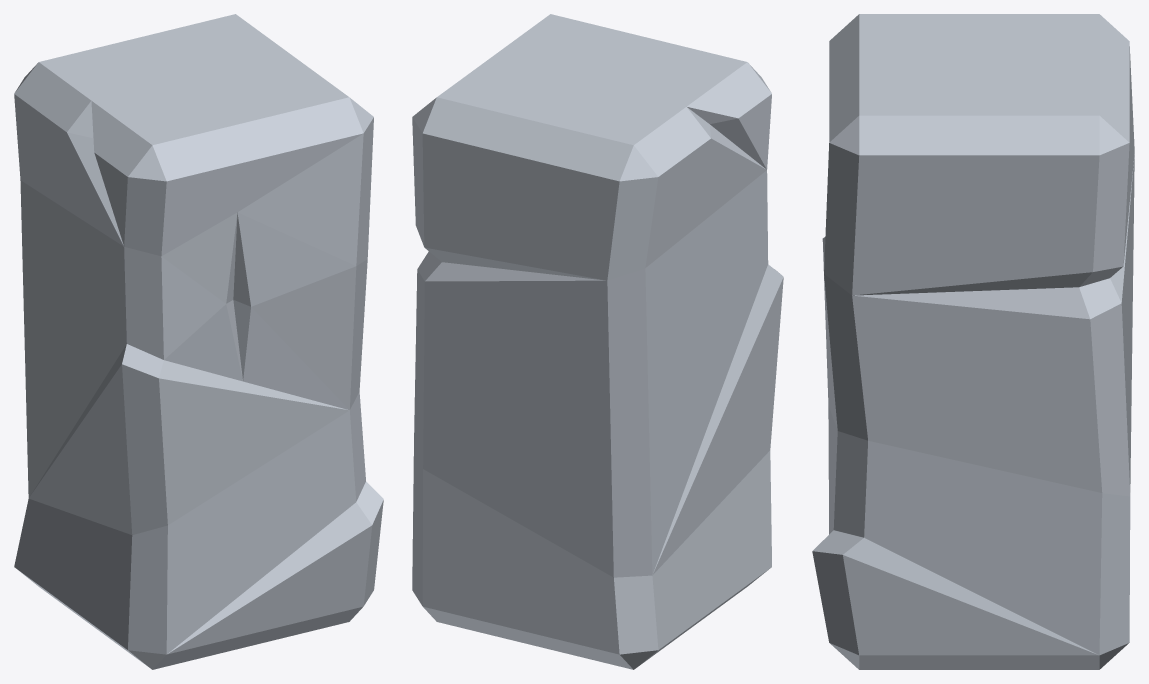
The model's file is model_polytope_rock_tall03.fbx.
3 views of the same model, side by side, from view 1: azimuth 30°, elevation 25°; view 2: azimuth 150°, elevation 25°; view 3: azimuth 270°, elevation 25° (orthographic). The views are drawn at different scales.
Parts seen in each view (by area): view 1: model_polytope_rock_tall03; view 2: model_polytope_rock_tall03; view 3: model_polytope_rock_tall03.
Part boxes in pixels (x1,y1,x2,y2): model_polytope_rock_tall03: (14,14,383,669); model_polytope_rock_tall03: (412,14,783,669); model_polytope_rock_tall03: (812,14,1134,669).
Size of the model in its own units: 315 by 614 by 324.
